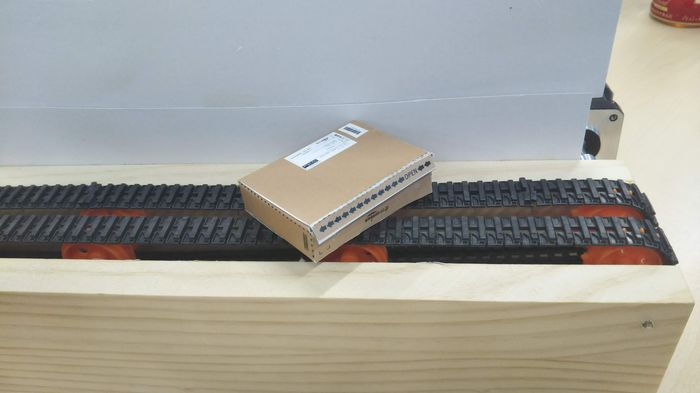box2: (236, 118, 439, 264)
